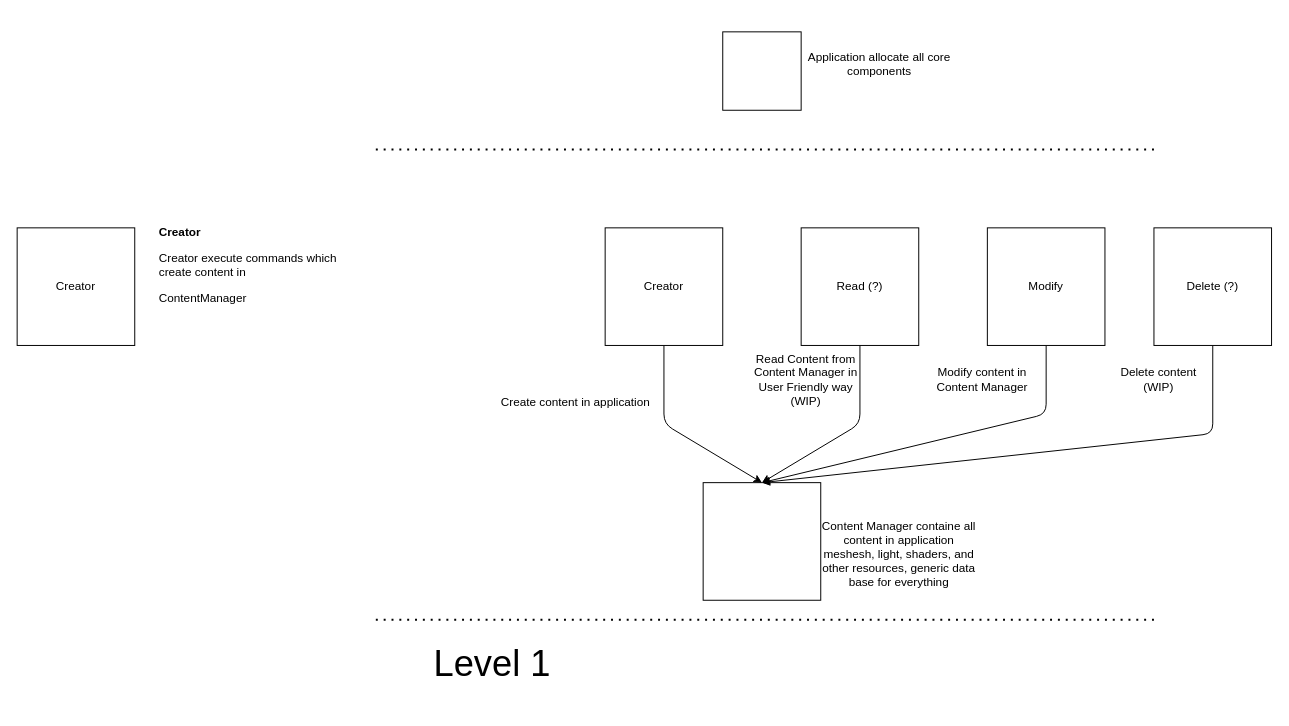
The diagram is 1289 pixels wide and 726 high, and some of its shapes have lost their labels. Here are the shapes that lost their labels. From the top down, the centre of each, then its label:
[761,70]: Application
[761,541]: ContentManager
